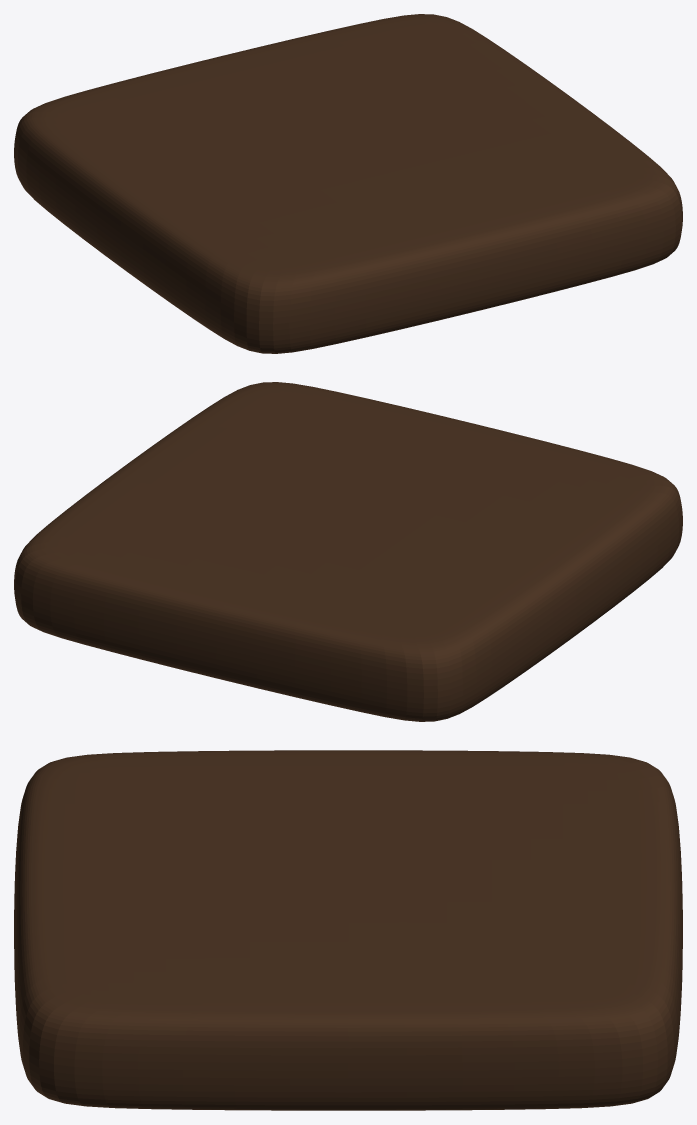
Rendered from CakeLayer.glb.
3 renders of one model, top to bottom at view 1: azimuth 30°, elevation 25°; view 2: azimuth 150°, elevation 25°; view 3: azimuth 270°, elevation 25°, orthographic. The views are drawn at different scales.
Parts seen in each view (by area): view 1: Cube.036; view 2: Cube.036; view 3: Cube.036.
Boxes of the visible parts, left/top/right/bottom form: Cube.036: left=14, top=14, right=682, bottom=353; Cube.036: left=14, top=382, right=682, bottom=721; Cube.036: left=14, top=750, right=682, bottom=1110.
Bounding box in the file's own units: 1.99 × 0.3213 × 1.99.
